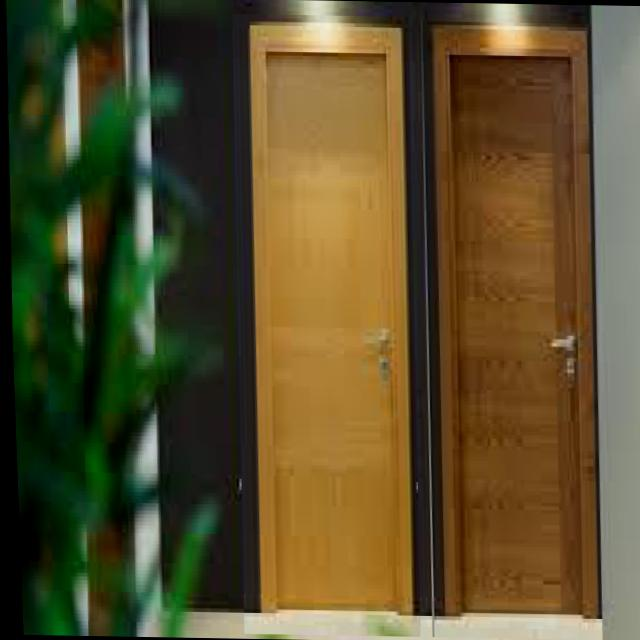close: (221, 13, 427, 638), (409, 20, 610, 639)
